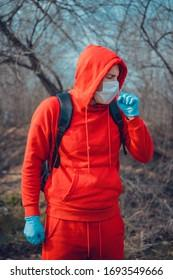gloves: (21, 215, 45, 246), (116, 91, 141, 117)
